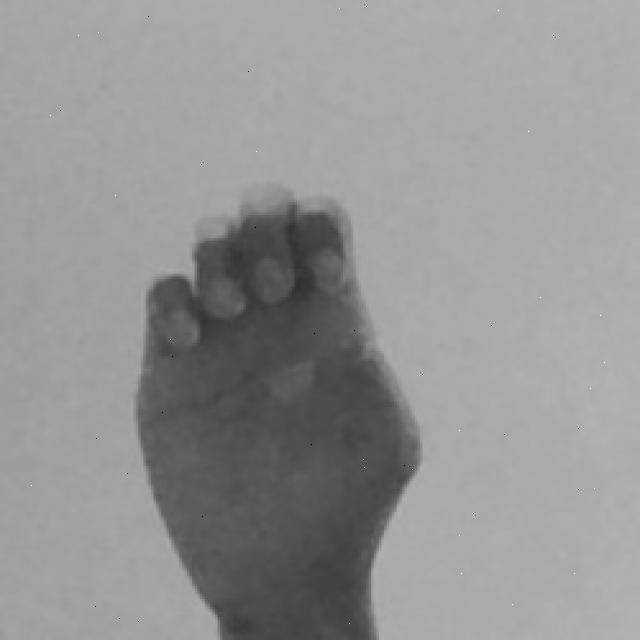E: (135, 181, 431, 640)
